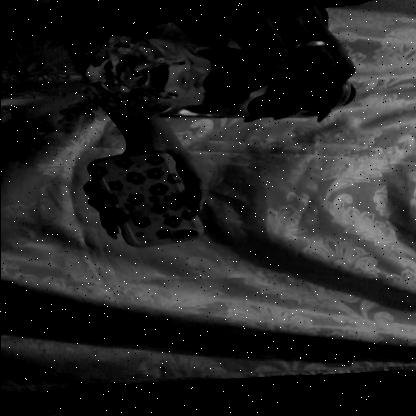Plastic Bottle: (23, 39, 394, 129)
